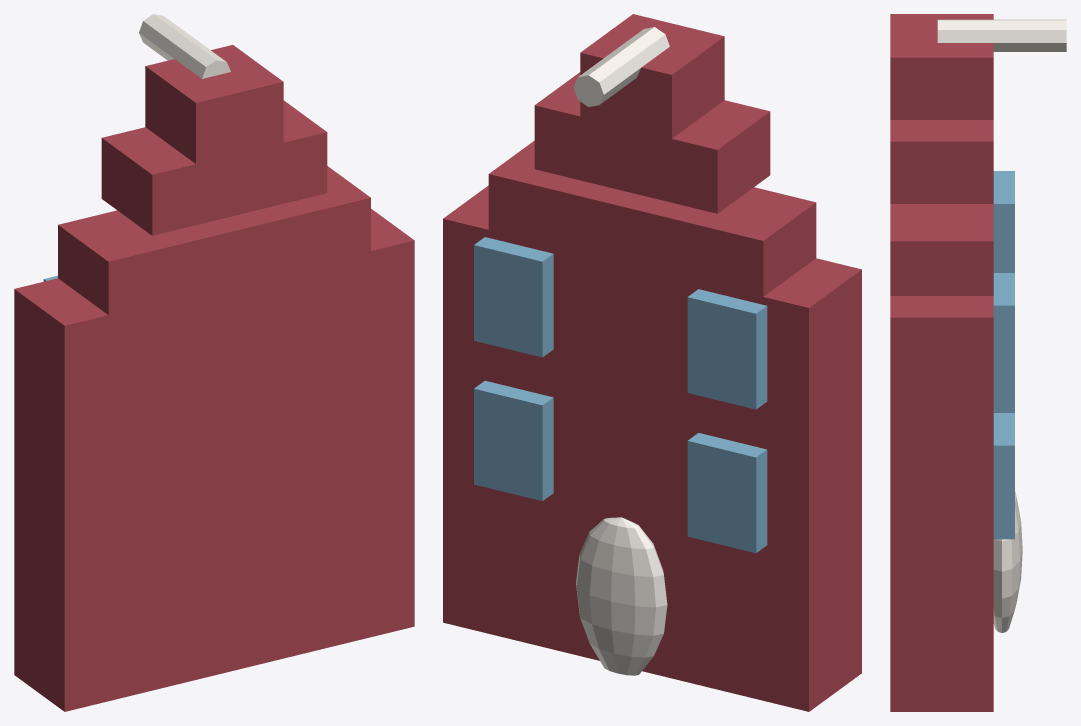
File: charm-canal-house.glb
3 views of the same model, side by side, from view 1: azimuth 30°, elevation 25°; view 2: azimuth 150°, elevation 25°; view 3: azimuth 270°, elevation 25° (orthographic). The views are drawn at different scales.
Visible parts, largest first — view 1: charm_canal_house; view 2: charm_canal_house; view 3: charm_canal_house.
Part boxes in pixels (x1=…): charm_canal_house: x1=14, y1=14, x2=414, y2=711; charm_canal_house: x1=443, y1=14, x2=861, y2=711; charm_canal_house: x1=890, y1=14, x2=1066, y2=711.
Bounding box in the file's own units: 0.0048 × 0.00776 × 0.00205.
